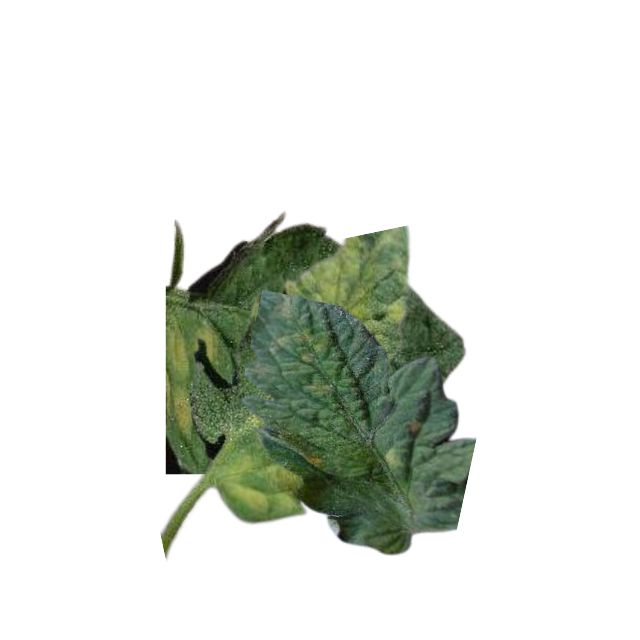Leaf_Mold: (283, 226, 409, 346), (223, 452, 305, 521), (261, 298, 332, 366), (169, 385, 198, 442), (165, 328, 189, 384), (298, 370, 336, 400), (192, 326, 216, 362), (304, 444, 328, 470), (385, 443, 402, 472)
